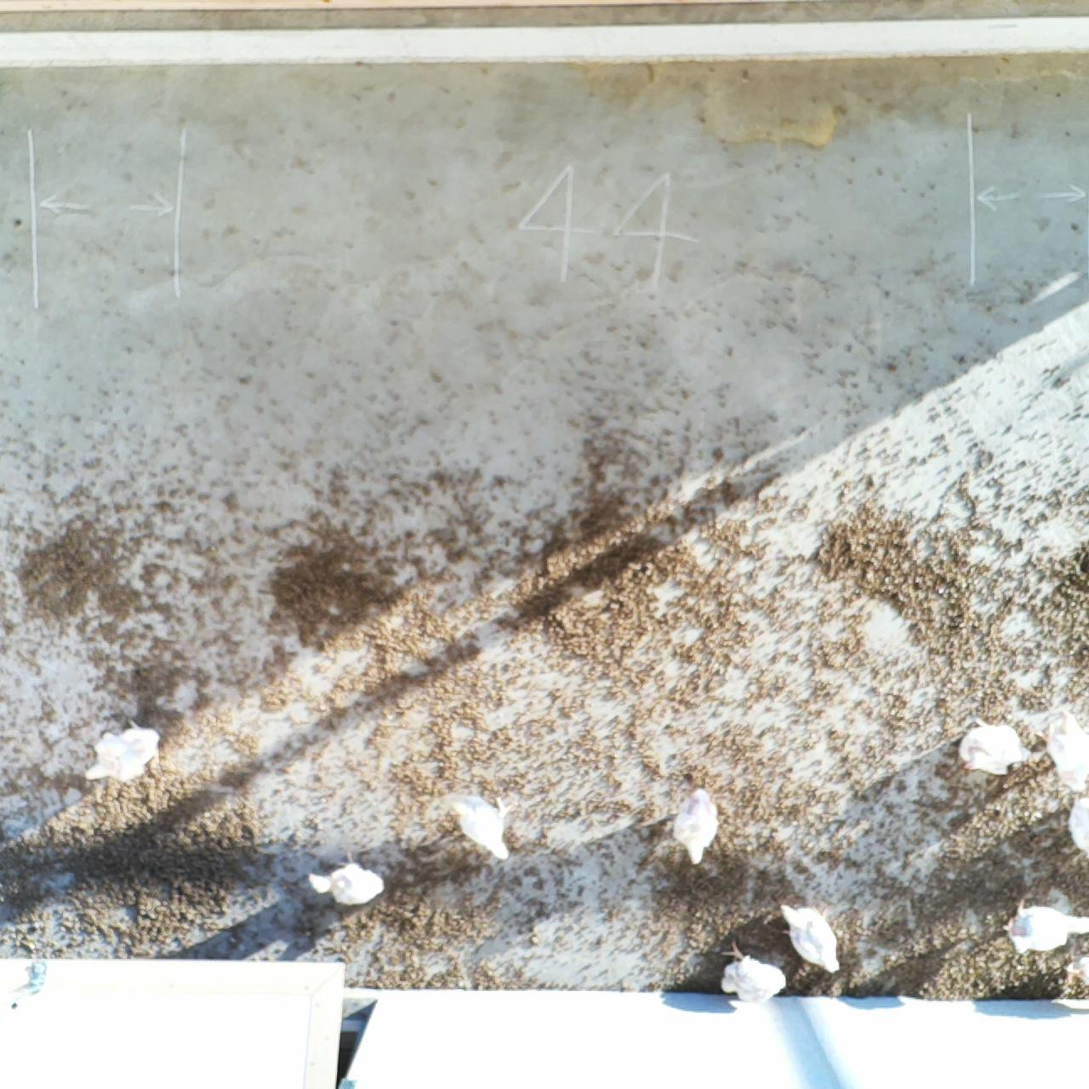chicken: (81, 717, 168, 789), (999, 897, 1089, 961), (712, 938, 794, 1008), (776, 899, 846, 978), (953, 716, 1042, 778), (445, 787, 510, 865), (305, 851, 386, 909), (666, 783, 719, 864), (1037, 708, 1089, 790), (1061, 788, 1089, 860)
